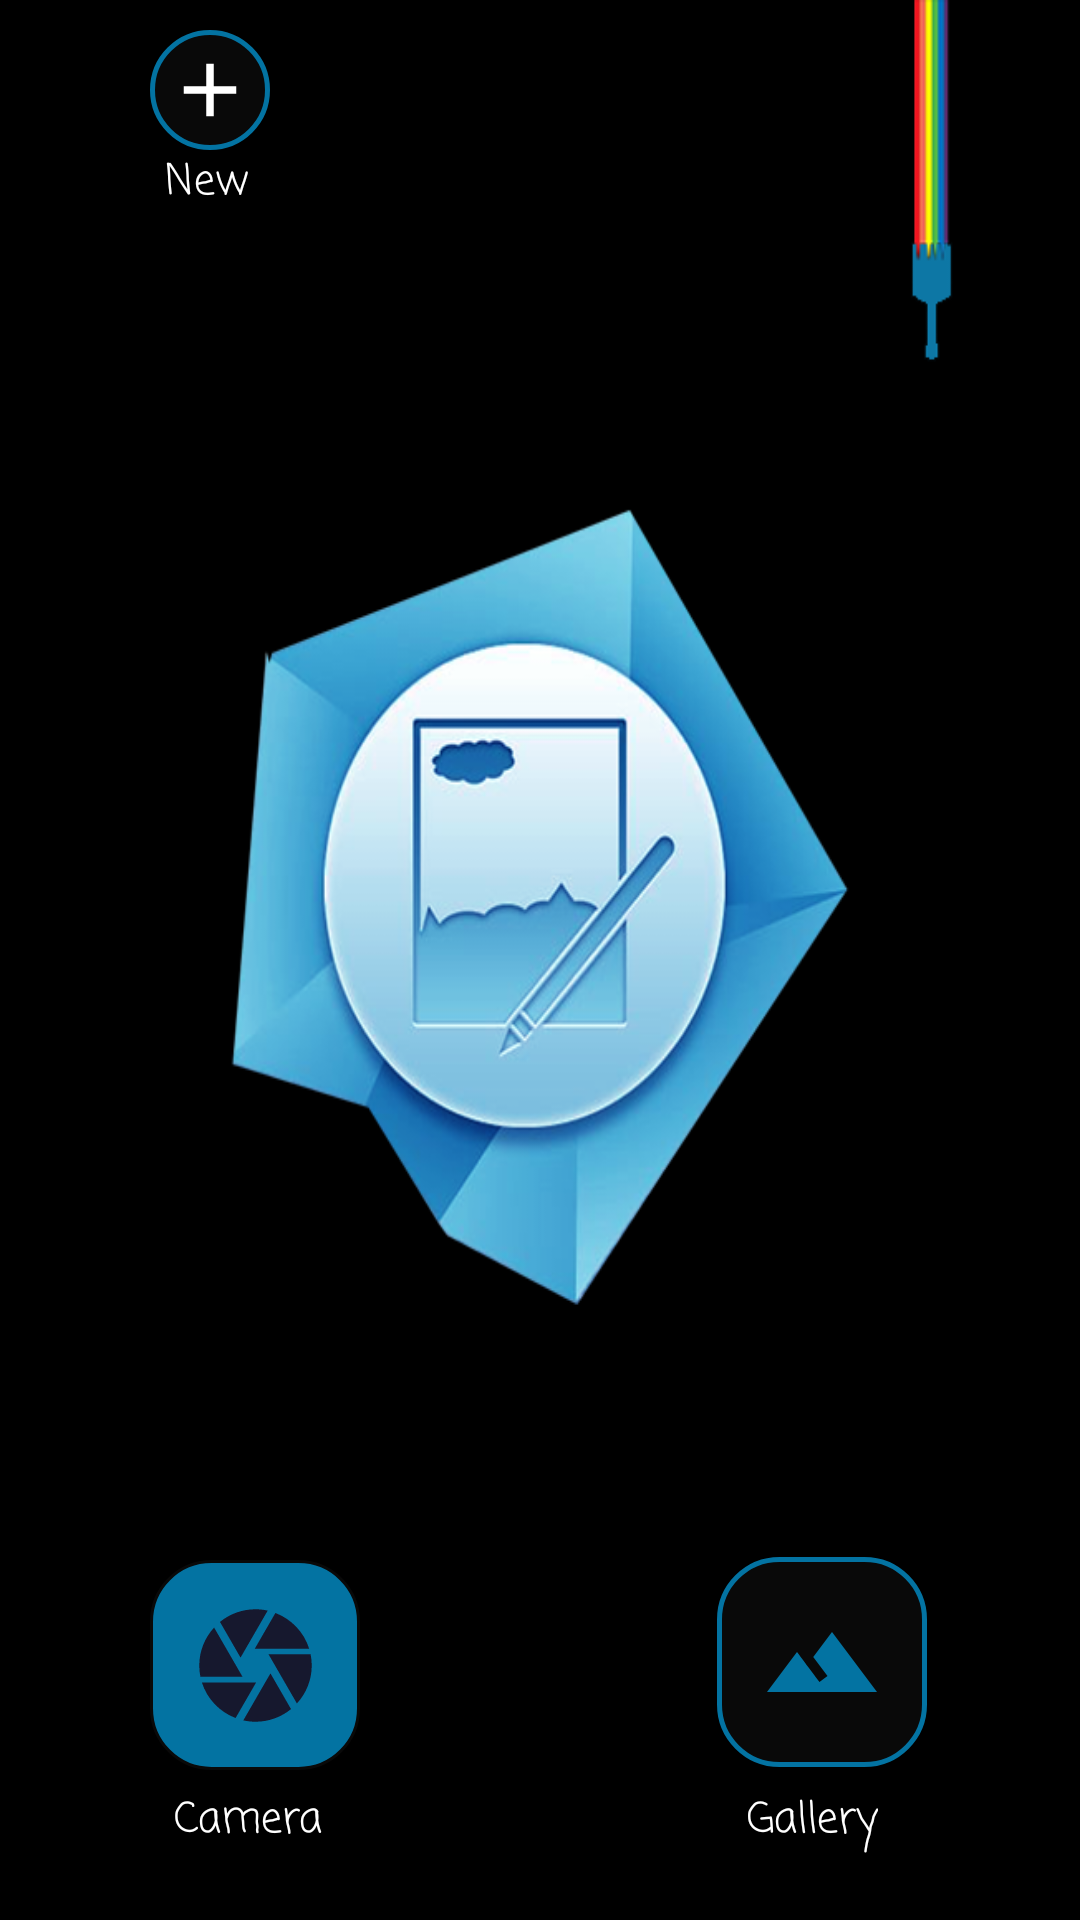

Screen size 1080×1920. Icon name, then its center in pixels as (x=x, y=y):
terrain: (x=822, y=1662)
